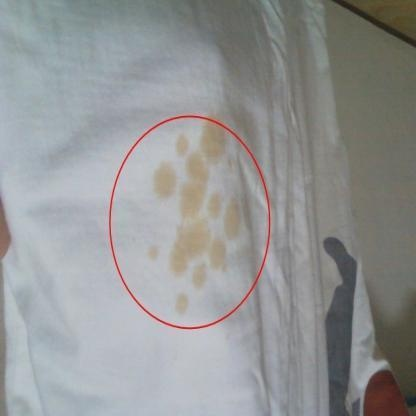coffee: (168, 223, 207, 274), (183, 186, 201, 216), (203, 129, 225, 153), (157, 166, 173, 195), (211, 242, 226, 271), (226, 204, 238, 236), (190, 157, 204, 180), (196, 267, 204, 284), (179, 138, 187, 152), (212, 198, 218, 214), (178, 297, 184, 313)
